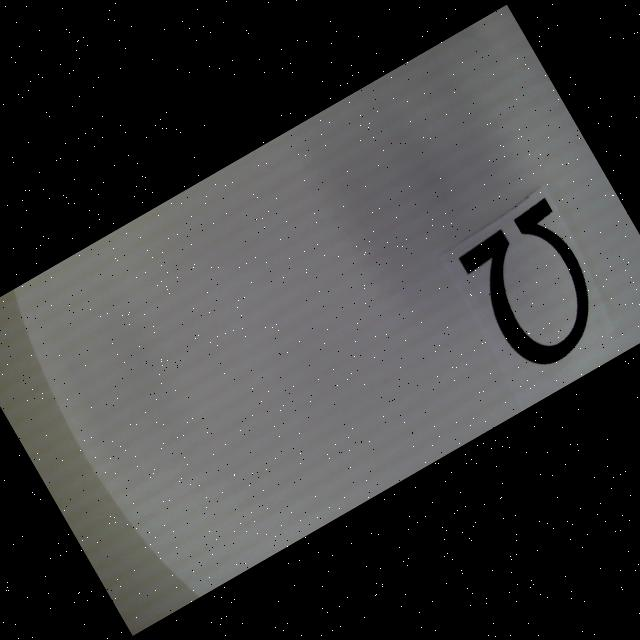OMEGA: (453, 196, 620, 378)
